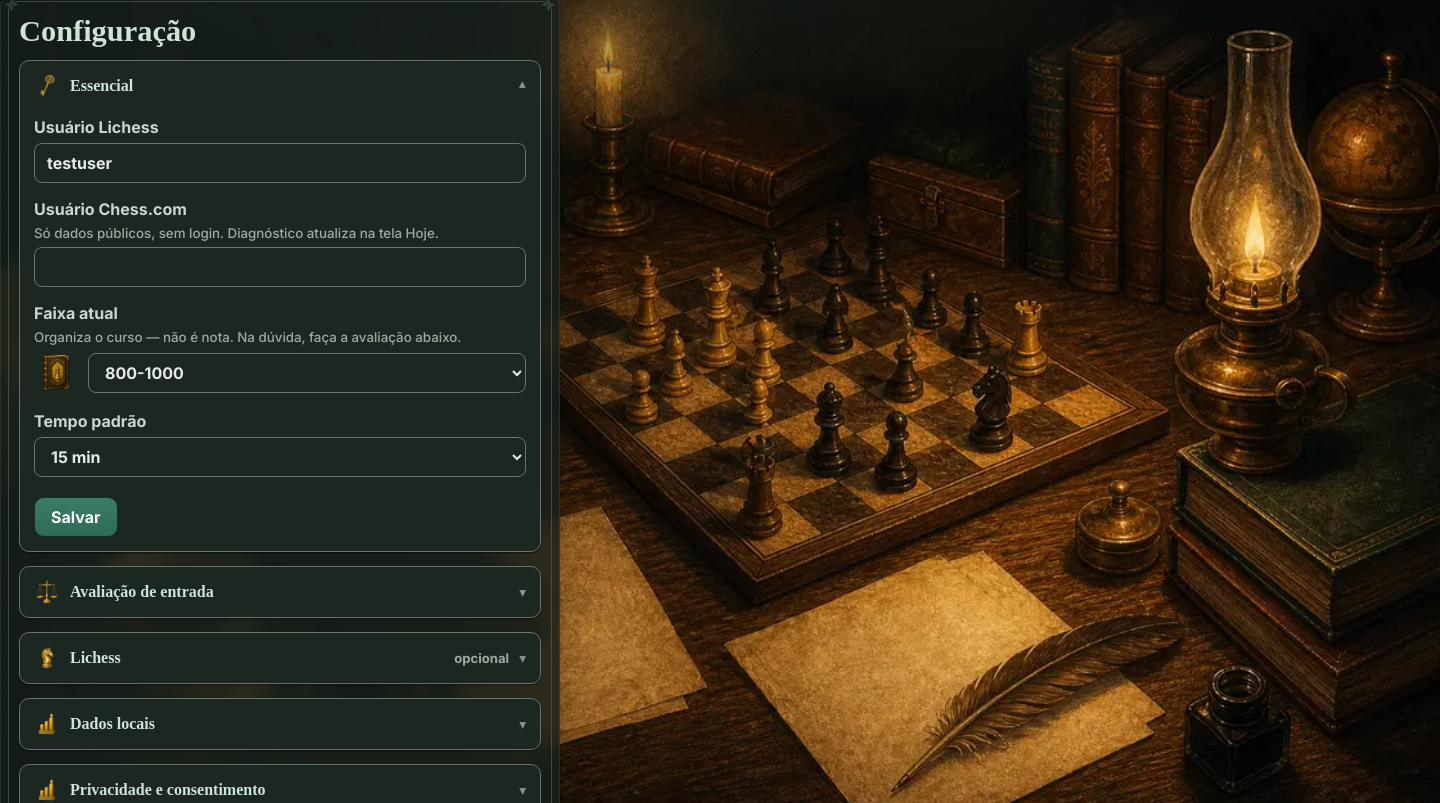
Config — Lichess OAuth › both Lichess buttons are disabled when connectionState is "syncing"
Click the heading "Lichess opcional". click: (95, 658)
box: [34, 645, 509, 671]
(page scrolled)
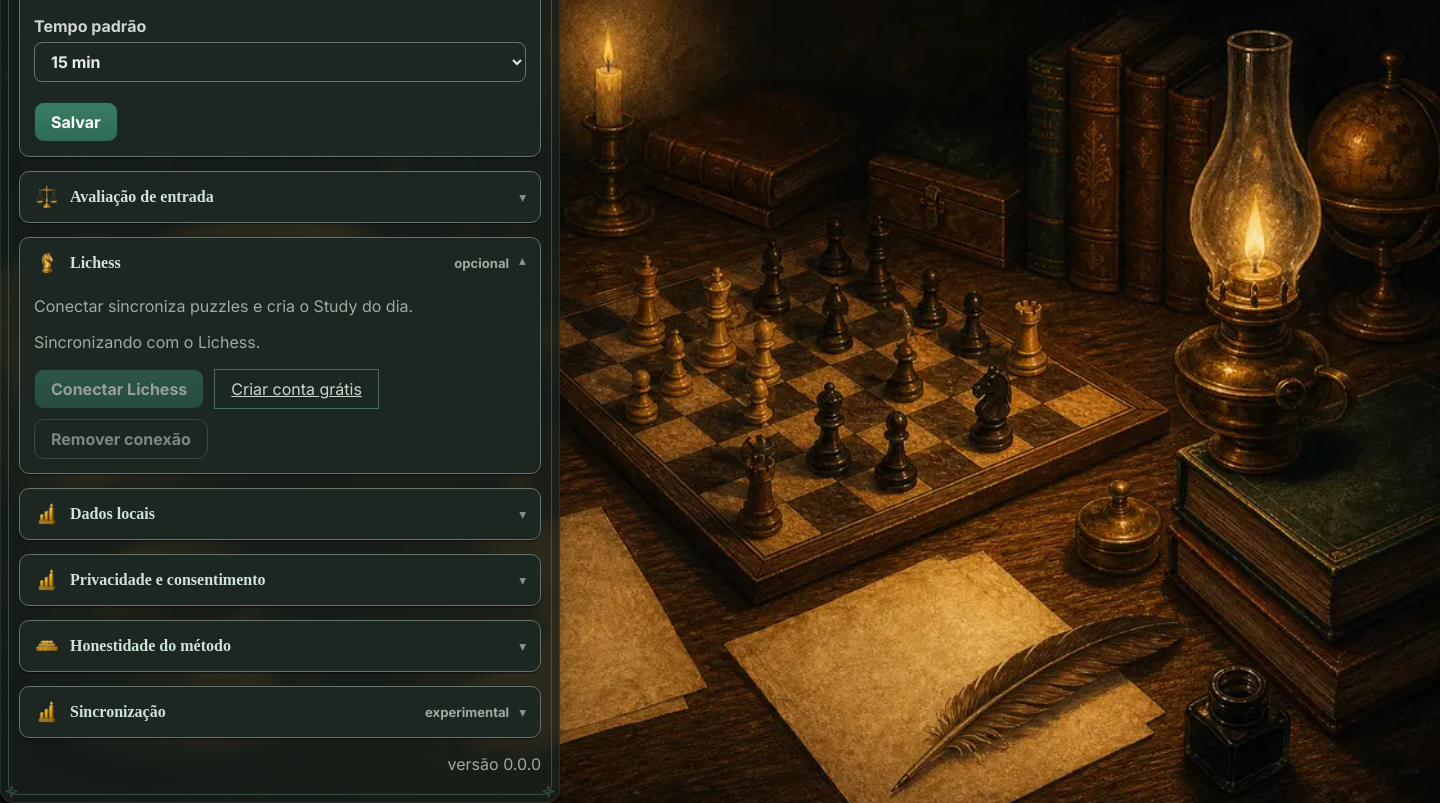
Expected: the button "Conectar Lichess" is disabled, [34, 369, 204, 409]
Expected: the button "Remover conexão" is disabled, [34, 419, 208, 459]
